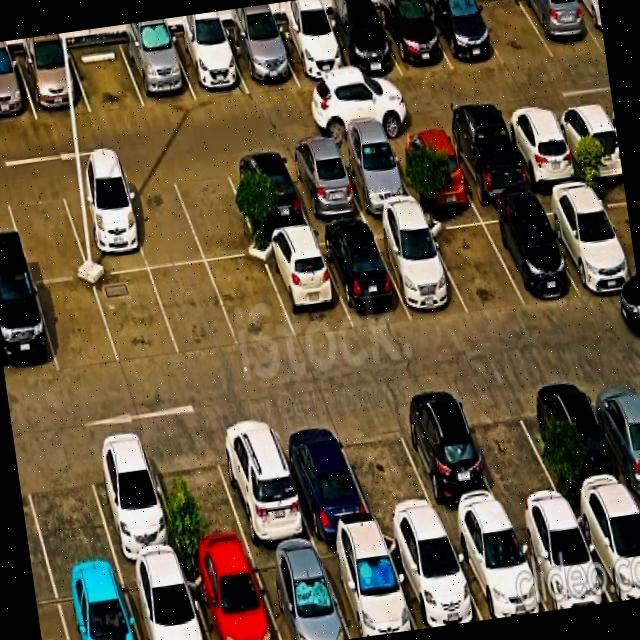empty: (458, 384, 566, 514), (333, 405, 442, 529), (146, 432, 251, 560), (19, 445, 118, 579), (425, 211, 525, 314), (170, 159, 260, 261), (119, 169, 205, 269), (4, 183, 89, 282), (93, 269, 180, 365), (150, 263, 239, 356), (35, 278, 120, 374), (208, 256, 296, 347), (470, 0, 553, 67), (69, 41, 145, 113), (591, 184, 638, 286)
occupied: (392, 394, 506, 525), (210, 417, 314, 550), (82, 437, 183, 568), (272, 414, 376, 540), (531, 375, 632, 504), (536, 188, 638, 294), (508, 508, 612, 611), (446, 516, 548, 620), (316, 535, 417, 639), (382, 528, 483, 629), (478, 202, 578, 304), (260, 232, 353, 340), (315, 224, 411, 328), (370, 218, 468, 317), (249, 546, 351, 640), (59, 176, 148, 276), (184, 554, 280, 640), (442, 119, 532, 203), (225, 151, 311, 237), (571, 495, 640, 602), (281, 144, 366, 226), (584, 369, 640, 493), (332, 137, 418, 217), (121, 562, 209, 640), (388, 128, 475, 206), (501, 110, 584, 189), (374, 0, 453, 77), (0, 280, 59, 382), (54, 571, 139, 640), (322, 9, 402, 81), (423, 0, 504, 70), (552, 102, 623, 180), (170, 31, 249, 101), (16, 47, 91, 120), (120, 35, 196, 107), (272, 19, 350, 87), (225, 26, 298, 93), (521, 0, 603, 57), (0, 55, 37, 125), (574, 0, 605, 50)
